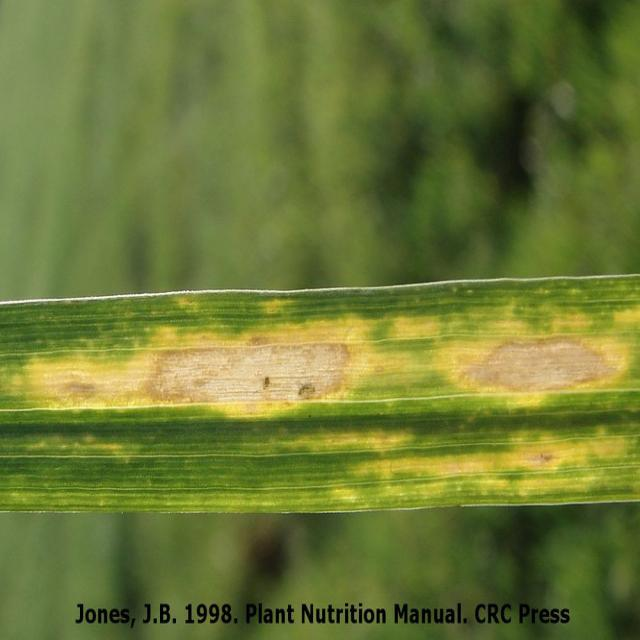wheat-septoria: (26, 344, 361, 418), (355, 428, 629, 476), (460, 337, 625, 393)
